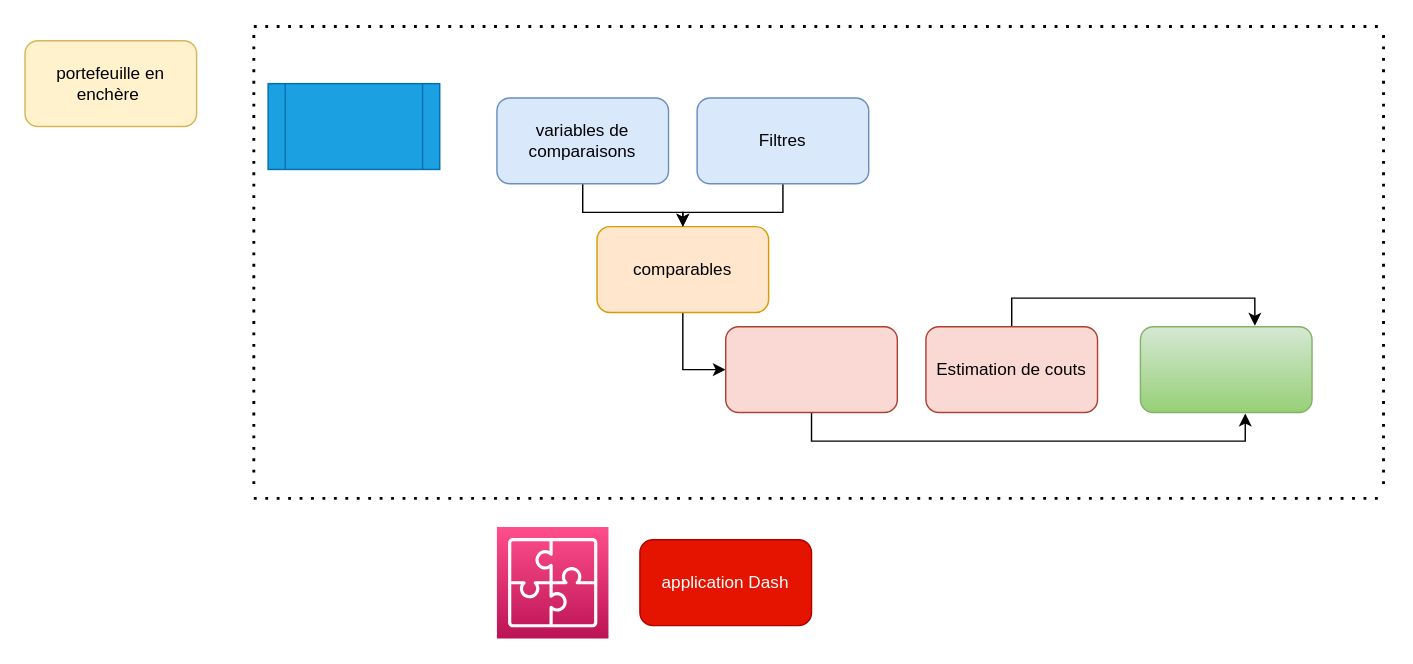
Some shapes in this 1413 by 664 pixel diagram are drawn without their labels. Here are the shapes that lost their labels. From the top down, the centre of each, then its label:
the point at 353,125: Dashboard exploration de données
the point at 810,369: Estimation de cashflows
the point at 1225,369: scénarios de valorisations
